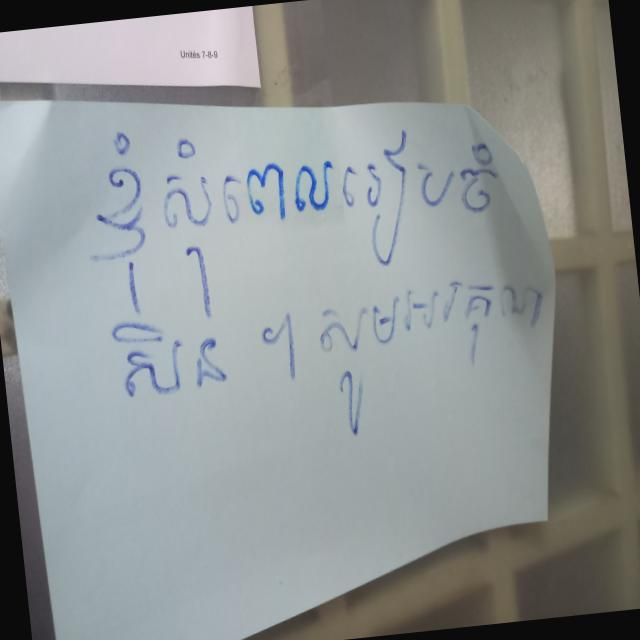1: (105, 269, 545, 468)
Yolov11_80vkh: (83, 110, 511, 318)
